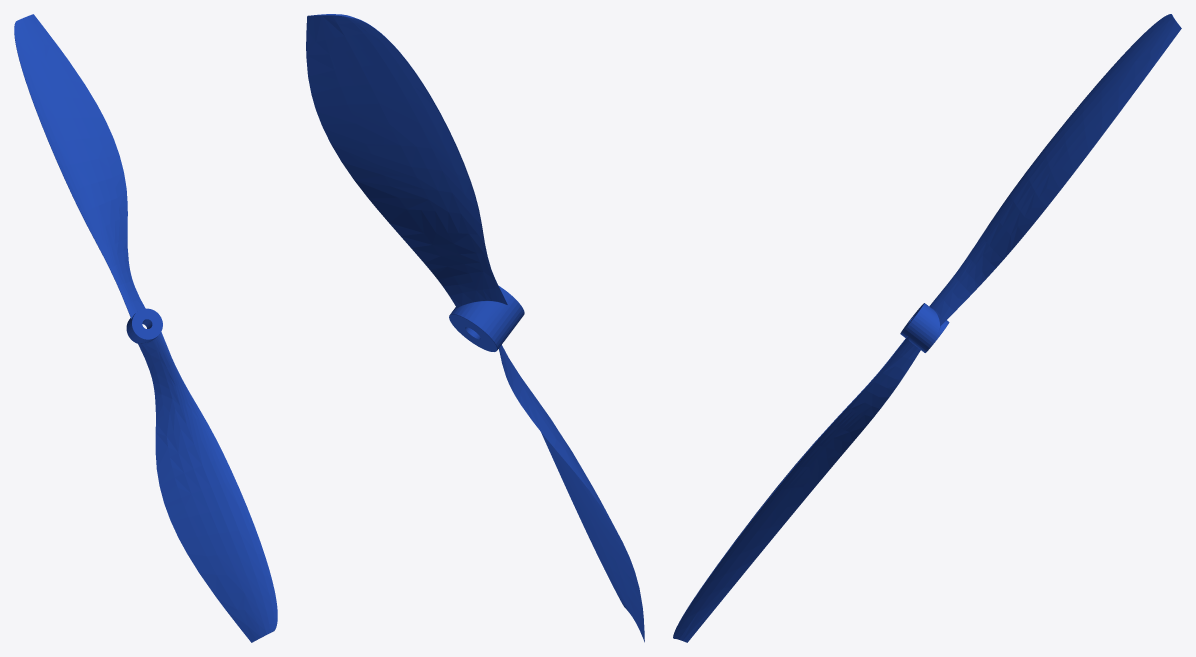
File: rotor_0.glb
The picture shows the model from 3 angles, left to right: view 1: azimuth 30°, elevation 25°; view 2: azimuth 150°, elevation 25°; view 3: azimuth 270°, elevation 25°; orthographic projection. The views are drawn at different scales.
Visible parts, largest first — view 1: Rotor 0; view 2: Rotor 0; view 3: Rotor 0.
Boxes of the visible parts, <box> form: Rotor 0: <box>14,14,277,642</box>; Rotor 0: <box>306,14,644,642</box>; Rotor 0: <box>673,14,1181,642</box>.
Bounding box in the file's own units: 0.0169 × 0.1031 × 0.0785.
